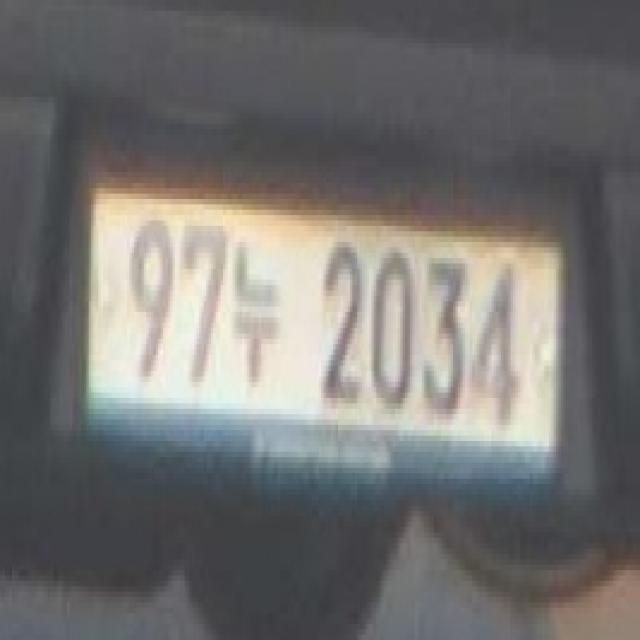0: (370, 236, 418, 430)
2: (320, 228, 366, 404)
3: (423, 241, 466, 432)
4: (470, 247, 522, 443)
7: (180, 207, 228, 389)
9: (128, 208, 172, 382)
license_plate: (83, 182, 564, 487)
nu: (232, 230, 285, 386)
